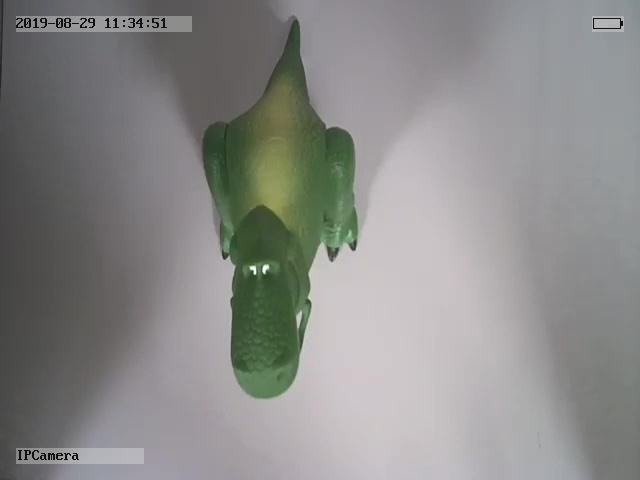rex: (198, 17, 361, 401)
